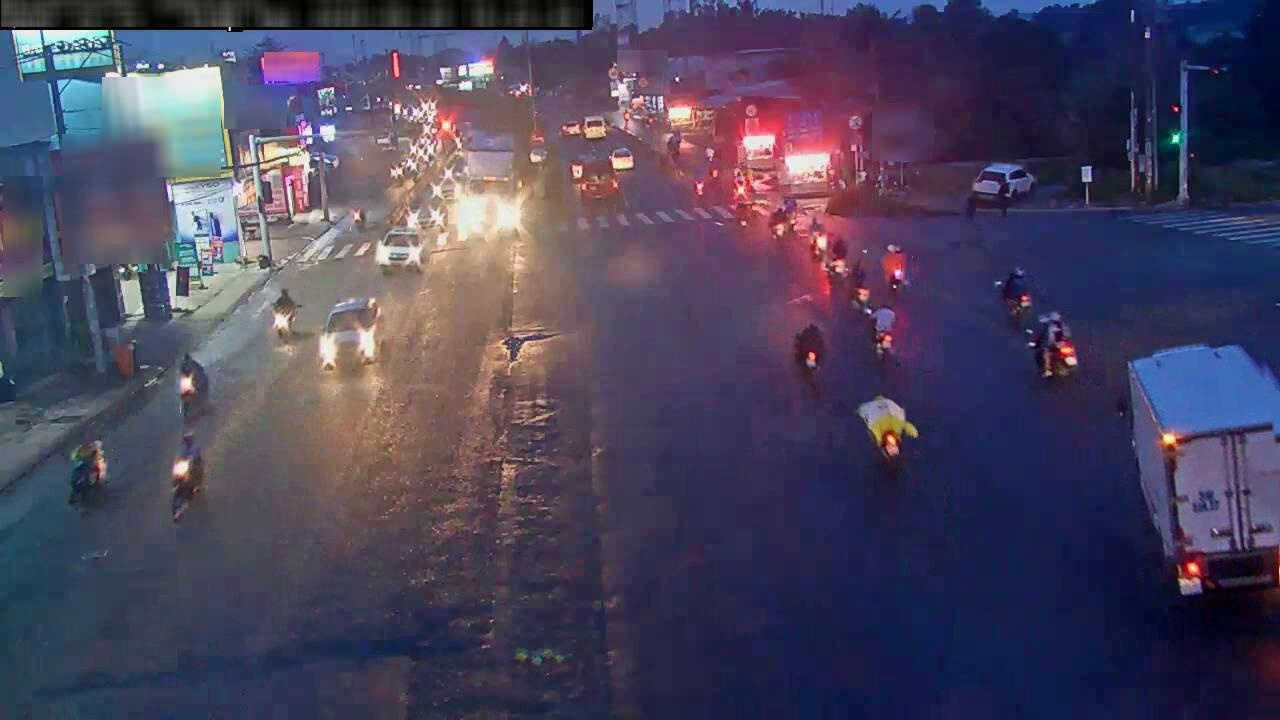Car: (318, 298, 381, 369), (971, 163, 1035, 202), (375, 228, 429, 273), (578, 159, 619, 202), (610, 147, 634, 171), (582, 116, 606, 140), (560, 120, 581, 136), (529, 146, 547, 164)
Motorcycle: (857, 395, 918, 469), (171, 430, 204, 520), (68, 439, 107, 504), (793, 322, 825, 372), (271, 289, 300, 340), (1006, 289, 1031, 327), (178, 371, 198, 417), (271, 308, 296, 340), (886, 266, 907, 297)
Motorcyclist: (1032, 311, 1077, 378), (871, 305, 896, 361), (821, 235, 847, 278), (849, 259, 869, 310), (769, 206, 791, 240), (809, 216, 826, 258), (351, 204, 366, 230)
Traffic light: (1168, 102, 1184, 146)
Truck: (1124, 344, 1279, 597), (464, 131, 520, 195)
